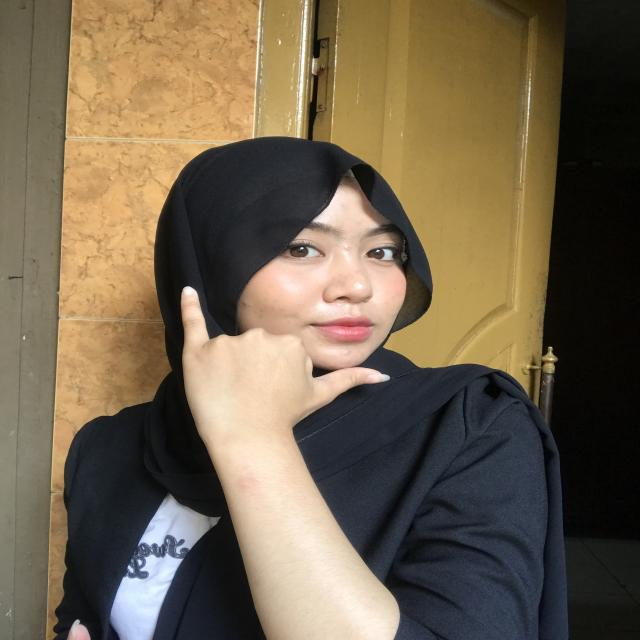telpon: (154, 276, 403, 448)
